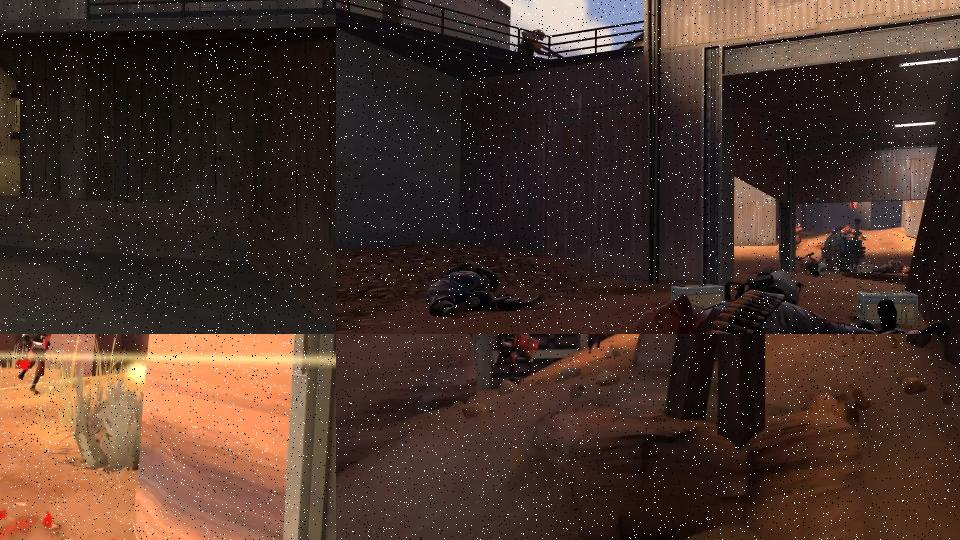Enemy: (629, 288, 952, 334), (7, 334, 58, 395), (517, 28, 563, 61), (495, 334, 517, 380), (515, 334, 540, 373), (586, 334, 607, 354)
